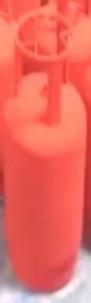cylinder: (1, 1, 91, 303)
